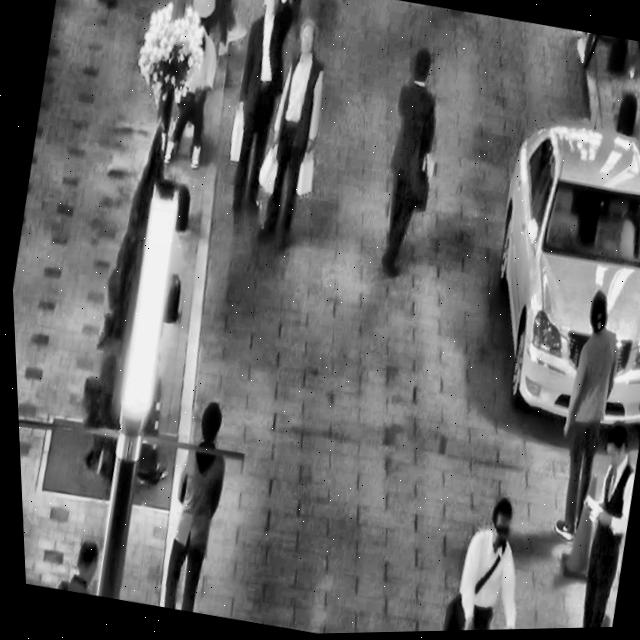light_vehicle: (455, 95, 640, 445)
